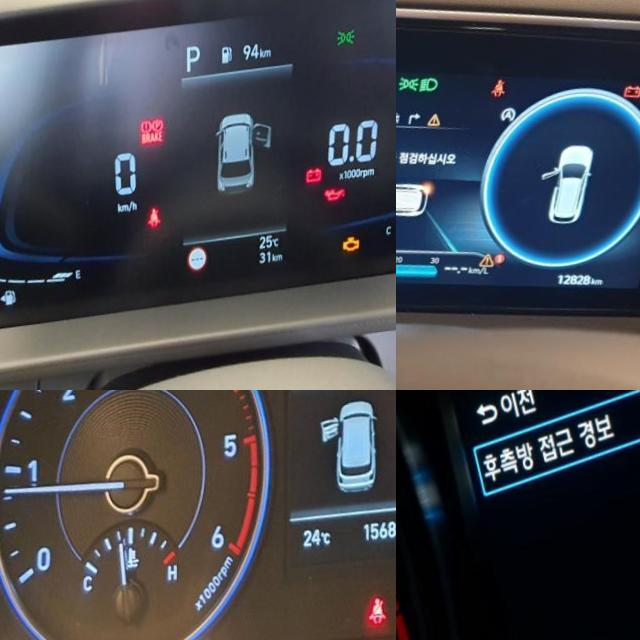Central Warning lamp: (425, 119, 443, 136)
Low beam: (418, 82, 439, 103)
SideLamp: (396, 81, 420, 102), (337, 38, 355, 57)
